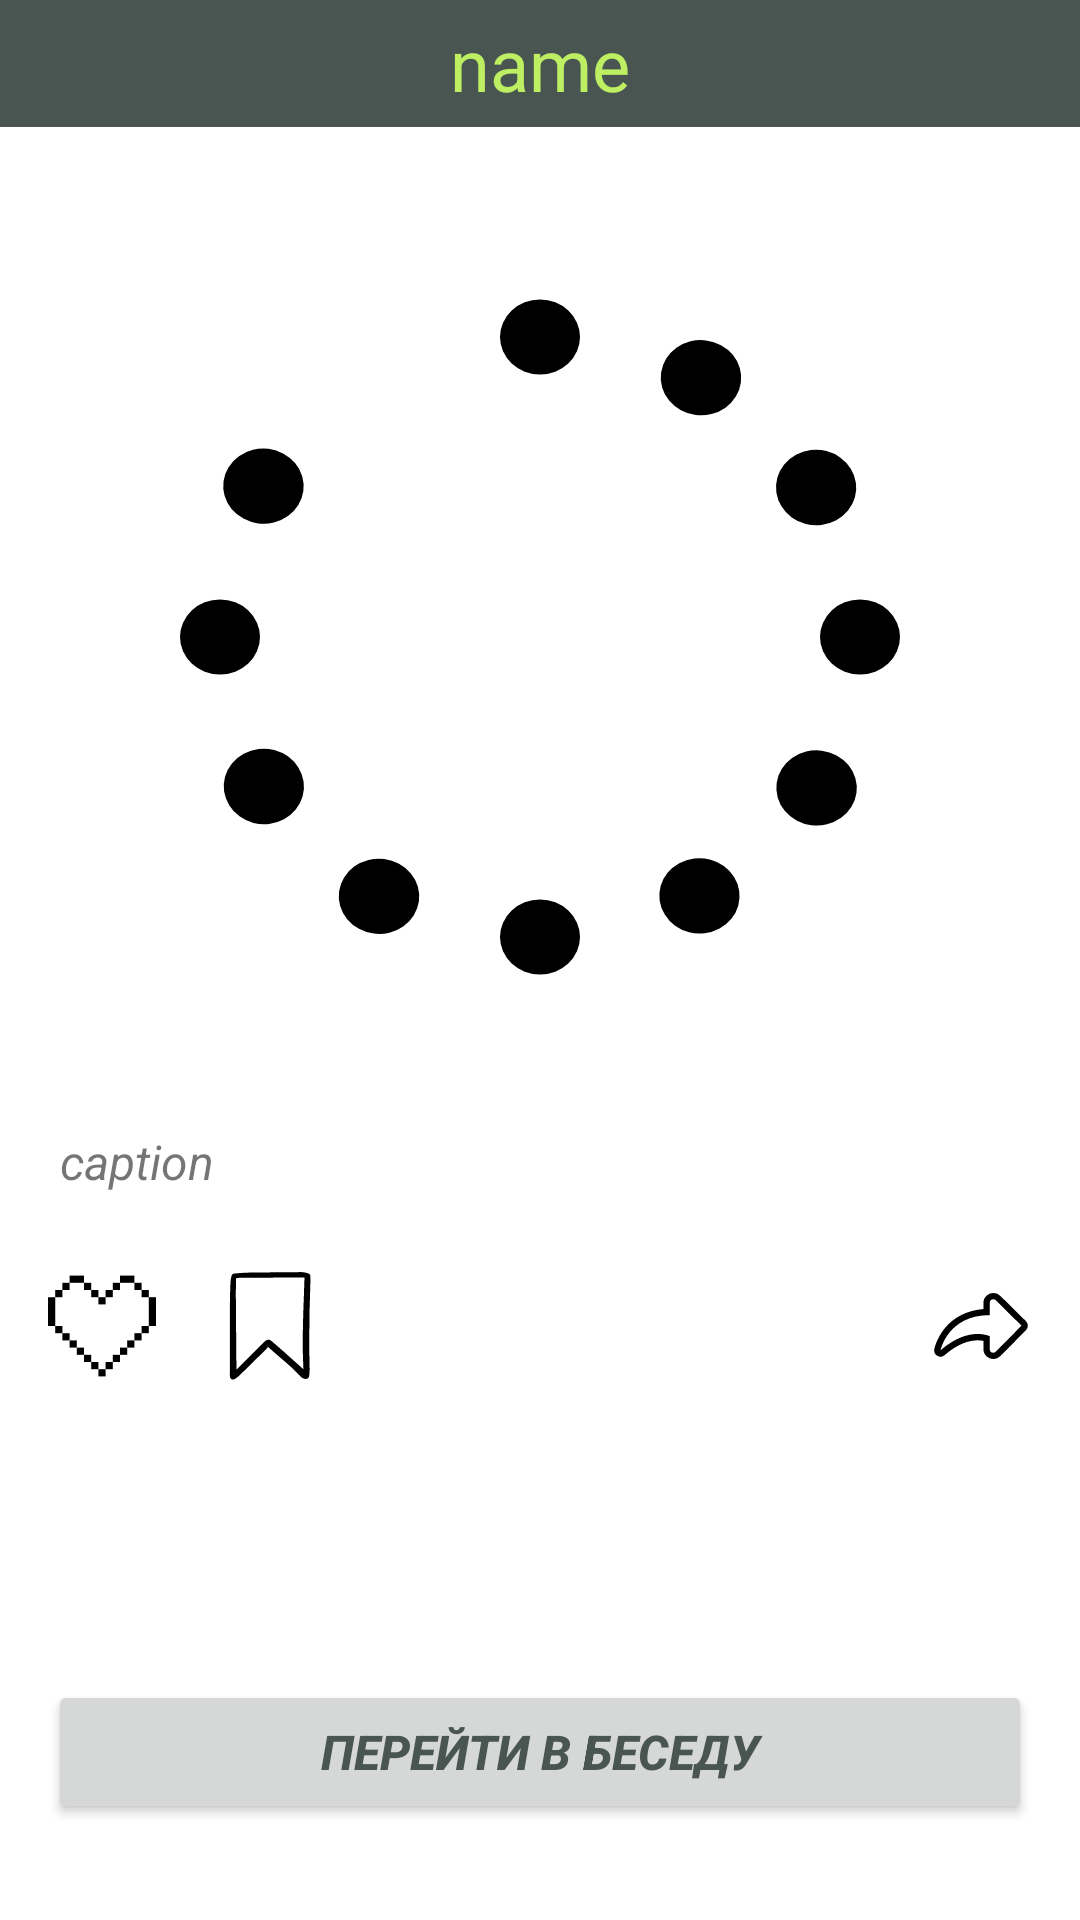

Named icons in this screenshot (1080x1920) and their centers, (x,y):
like: (102,1326)
send: (981,1326)
